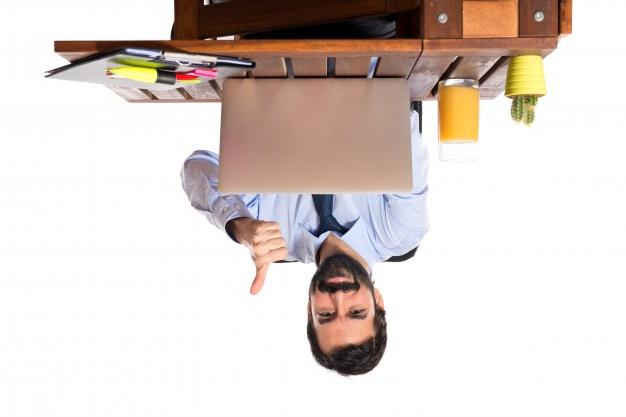thumbsdown: (249, 221, 288, 297)
